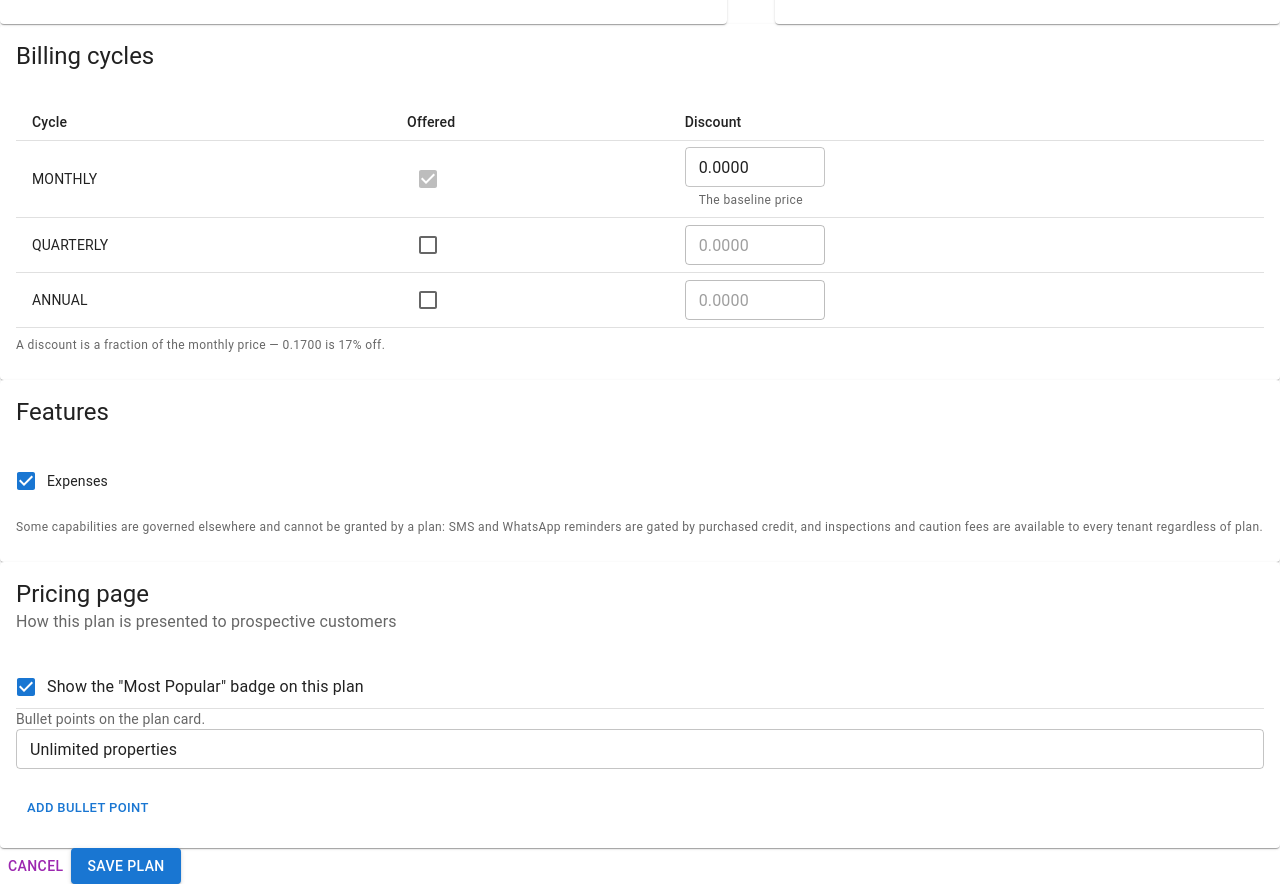
Test: PlanEditorForm › opens the impact dialog on a 409 rather than saving
This screenshot has width=1280, height=884.
(page scrolled)
Click the button "Save plan": (126, 866) x1=72 y1=848 x2=181 y2=883
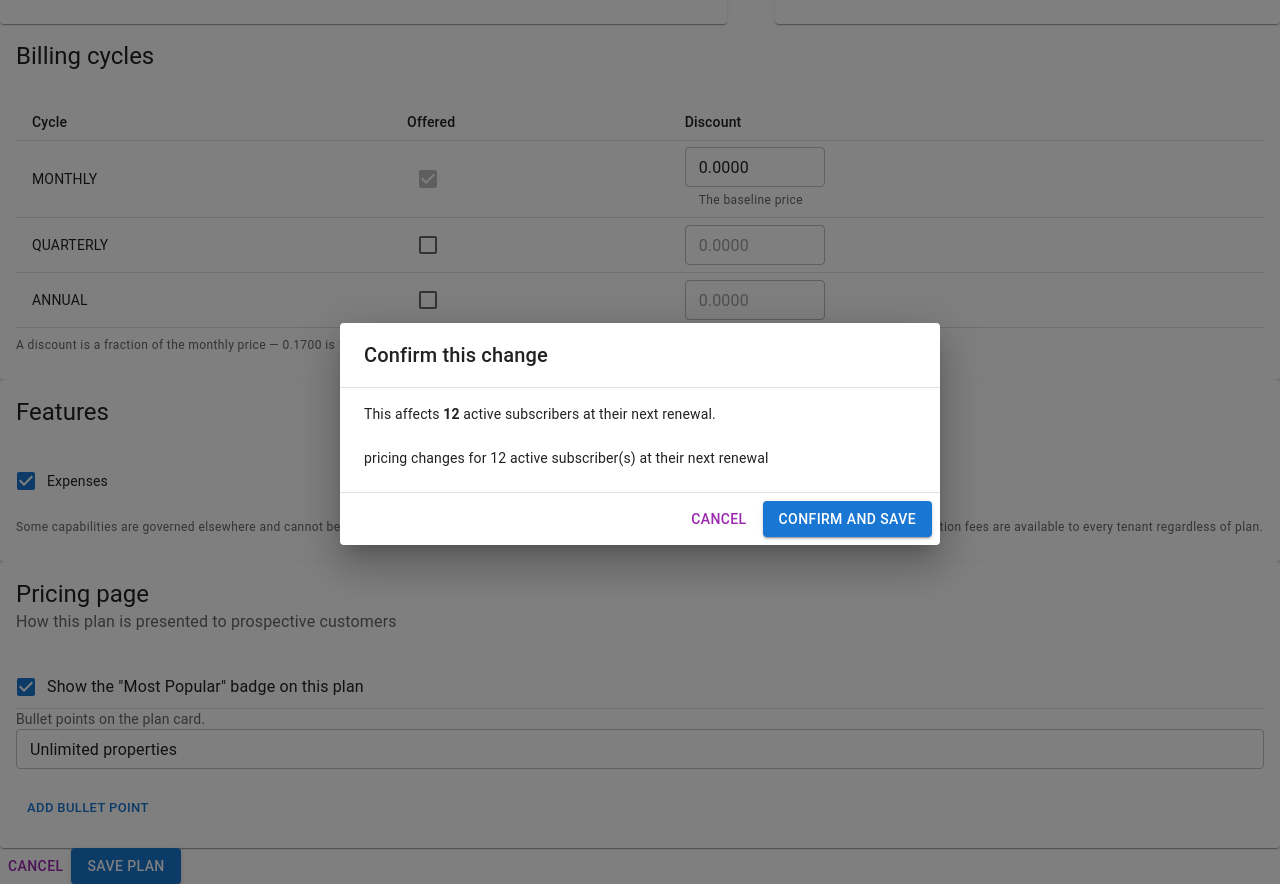
Expected: the dialog shows "pricing changes for 12 active subscriber(s) at their next renewal", x1=364 y1=450 x2=768 y2=466
